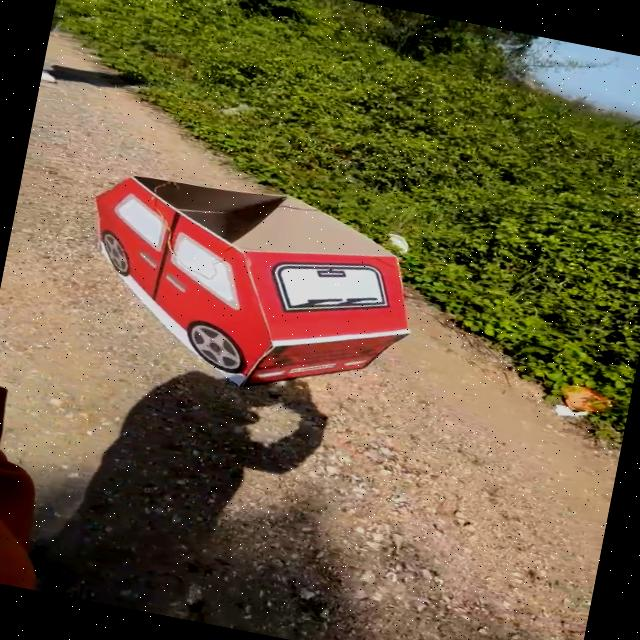red_car: (44, 143, 448, 429)
